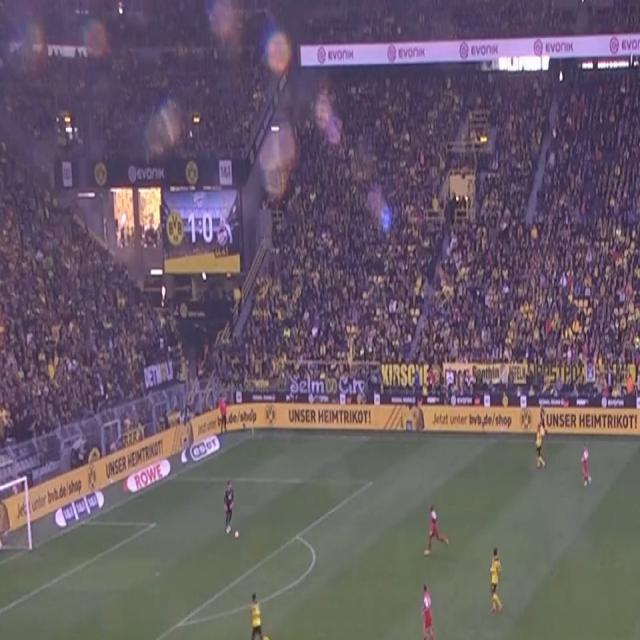ball: (234, 529, 240, 541)
